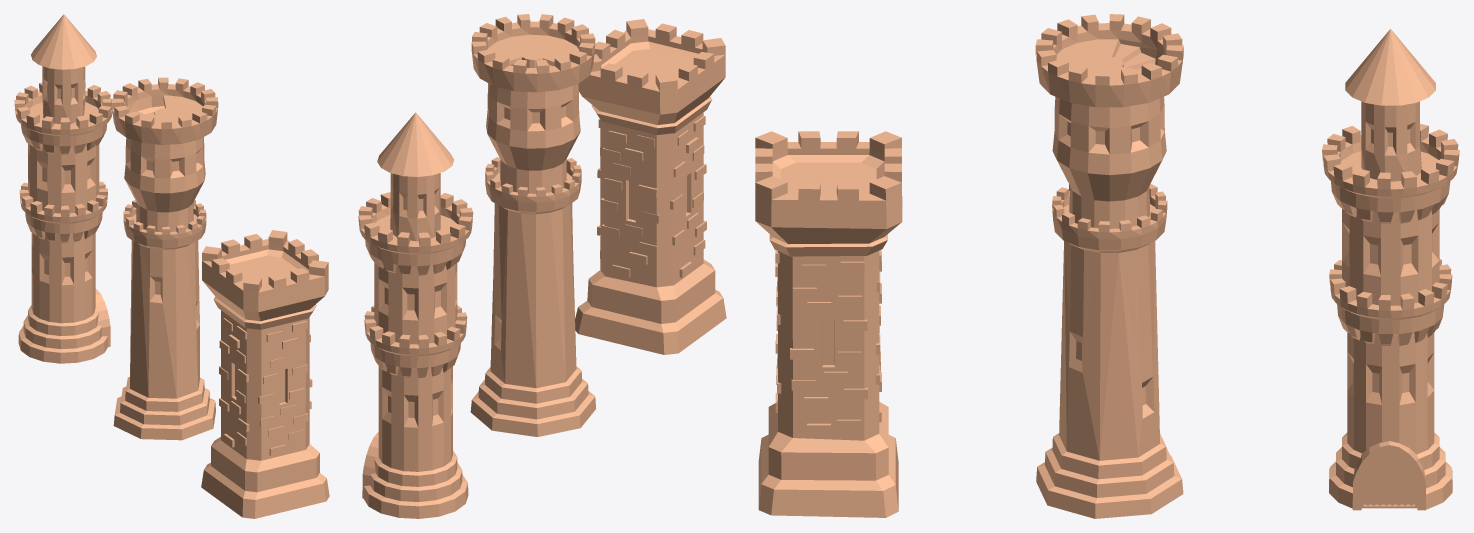
The model's file is Pack_Towers.obj.
The picture shows the model from 3 angles, left to right: view 1: azimuth 30°, elevation 25°; view 2: azimuth 150°, elevation 25°; view 3: azimuth 270°, elevation 25°; orthographic projection. The views are drawn at different scales.
Parts seen in each view (by area): view 1: Castle.008_Cube.003_Cube.016, Castle.004_Cube.003_Cube.014, Castle.010_Cube.003_Cube.019; view 2: Castle.008_Cube.003_Cube.016, Castle.004_Cube.003_Cube.014, Castle.010_Cube.003_Cube.019; view 3: Castle.008_Cube.003_Cube.016, Castle.004_Cube.003_Cube.014, Castle.010_Cube.003_Cube.019.
Part boxes in pixels (box(x1,y1,x2,y2)): Castle.008_Cube.003_Cube.016: box(111, 77, 218, 440); Castle.004_Cube.003_Cube.014: box(201, 230, 329, 518); Castle.010_Cube.003_Cube.019: box(14, 14, 112, 363); Castle.008_Cube.003_Cube.016: box(470, 14, 595, 436); Castle.004_Cube.003_Cube.014: box(575, 19, 726, 354); Castle.010_Cube.003_Cube.019: box(358, 112, 473, 518); Castle.008_Cube.003_Cube.016: box(1035, 14, 1183, 518); Castle.004_Cube.003_Cube.014: box(755, 131, 902, 517); Castle.010_Cube.003_Cube.019: box(1322, 29, 1459, 510).
Size of what is drawn, in the model's own units: 4.23 by 14.42 by 20.04.
